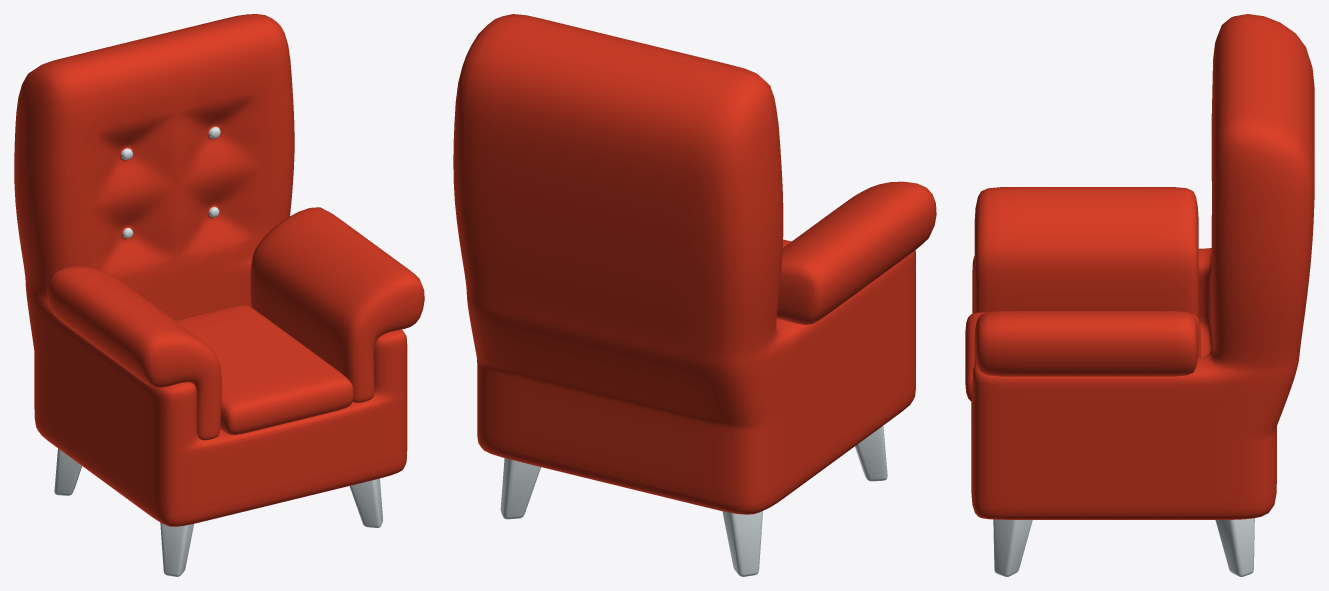
3 views of the same model, side by side, from view 1: azimuth 30°, elevation 25°; view 2: azimuth 150°, elevation 25°; view 3: azimuth 270°, elevation 25° (orthographic). The views are drawn at different scales.
Visible parts, largest first — view 1: Plane; view 2: Plane; view 3: Plane.
Part boxes in pixels (bbox=[...]): Plane: bbox=[14, 14, 424, 576]; Plane: bbox=[453, 14, 936, 576]; Plane: bbox=[965, 14, 1314, 576].
Size of the model in its own units: 228 by 328 by 229.
